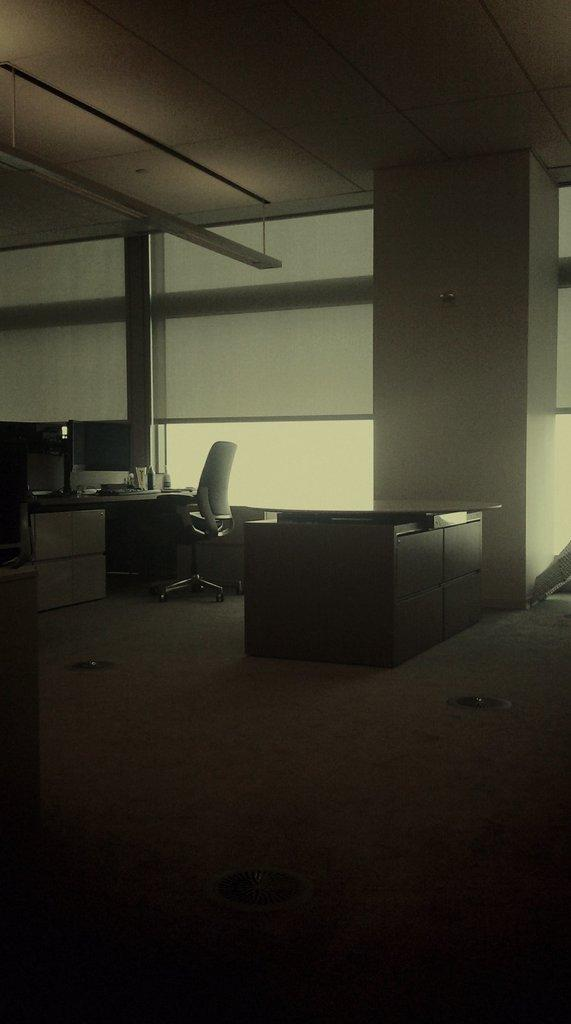Chair: (180, 438, 249, 577)
